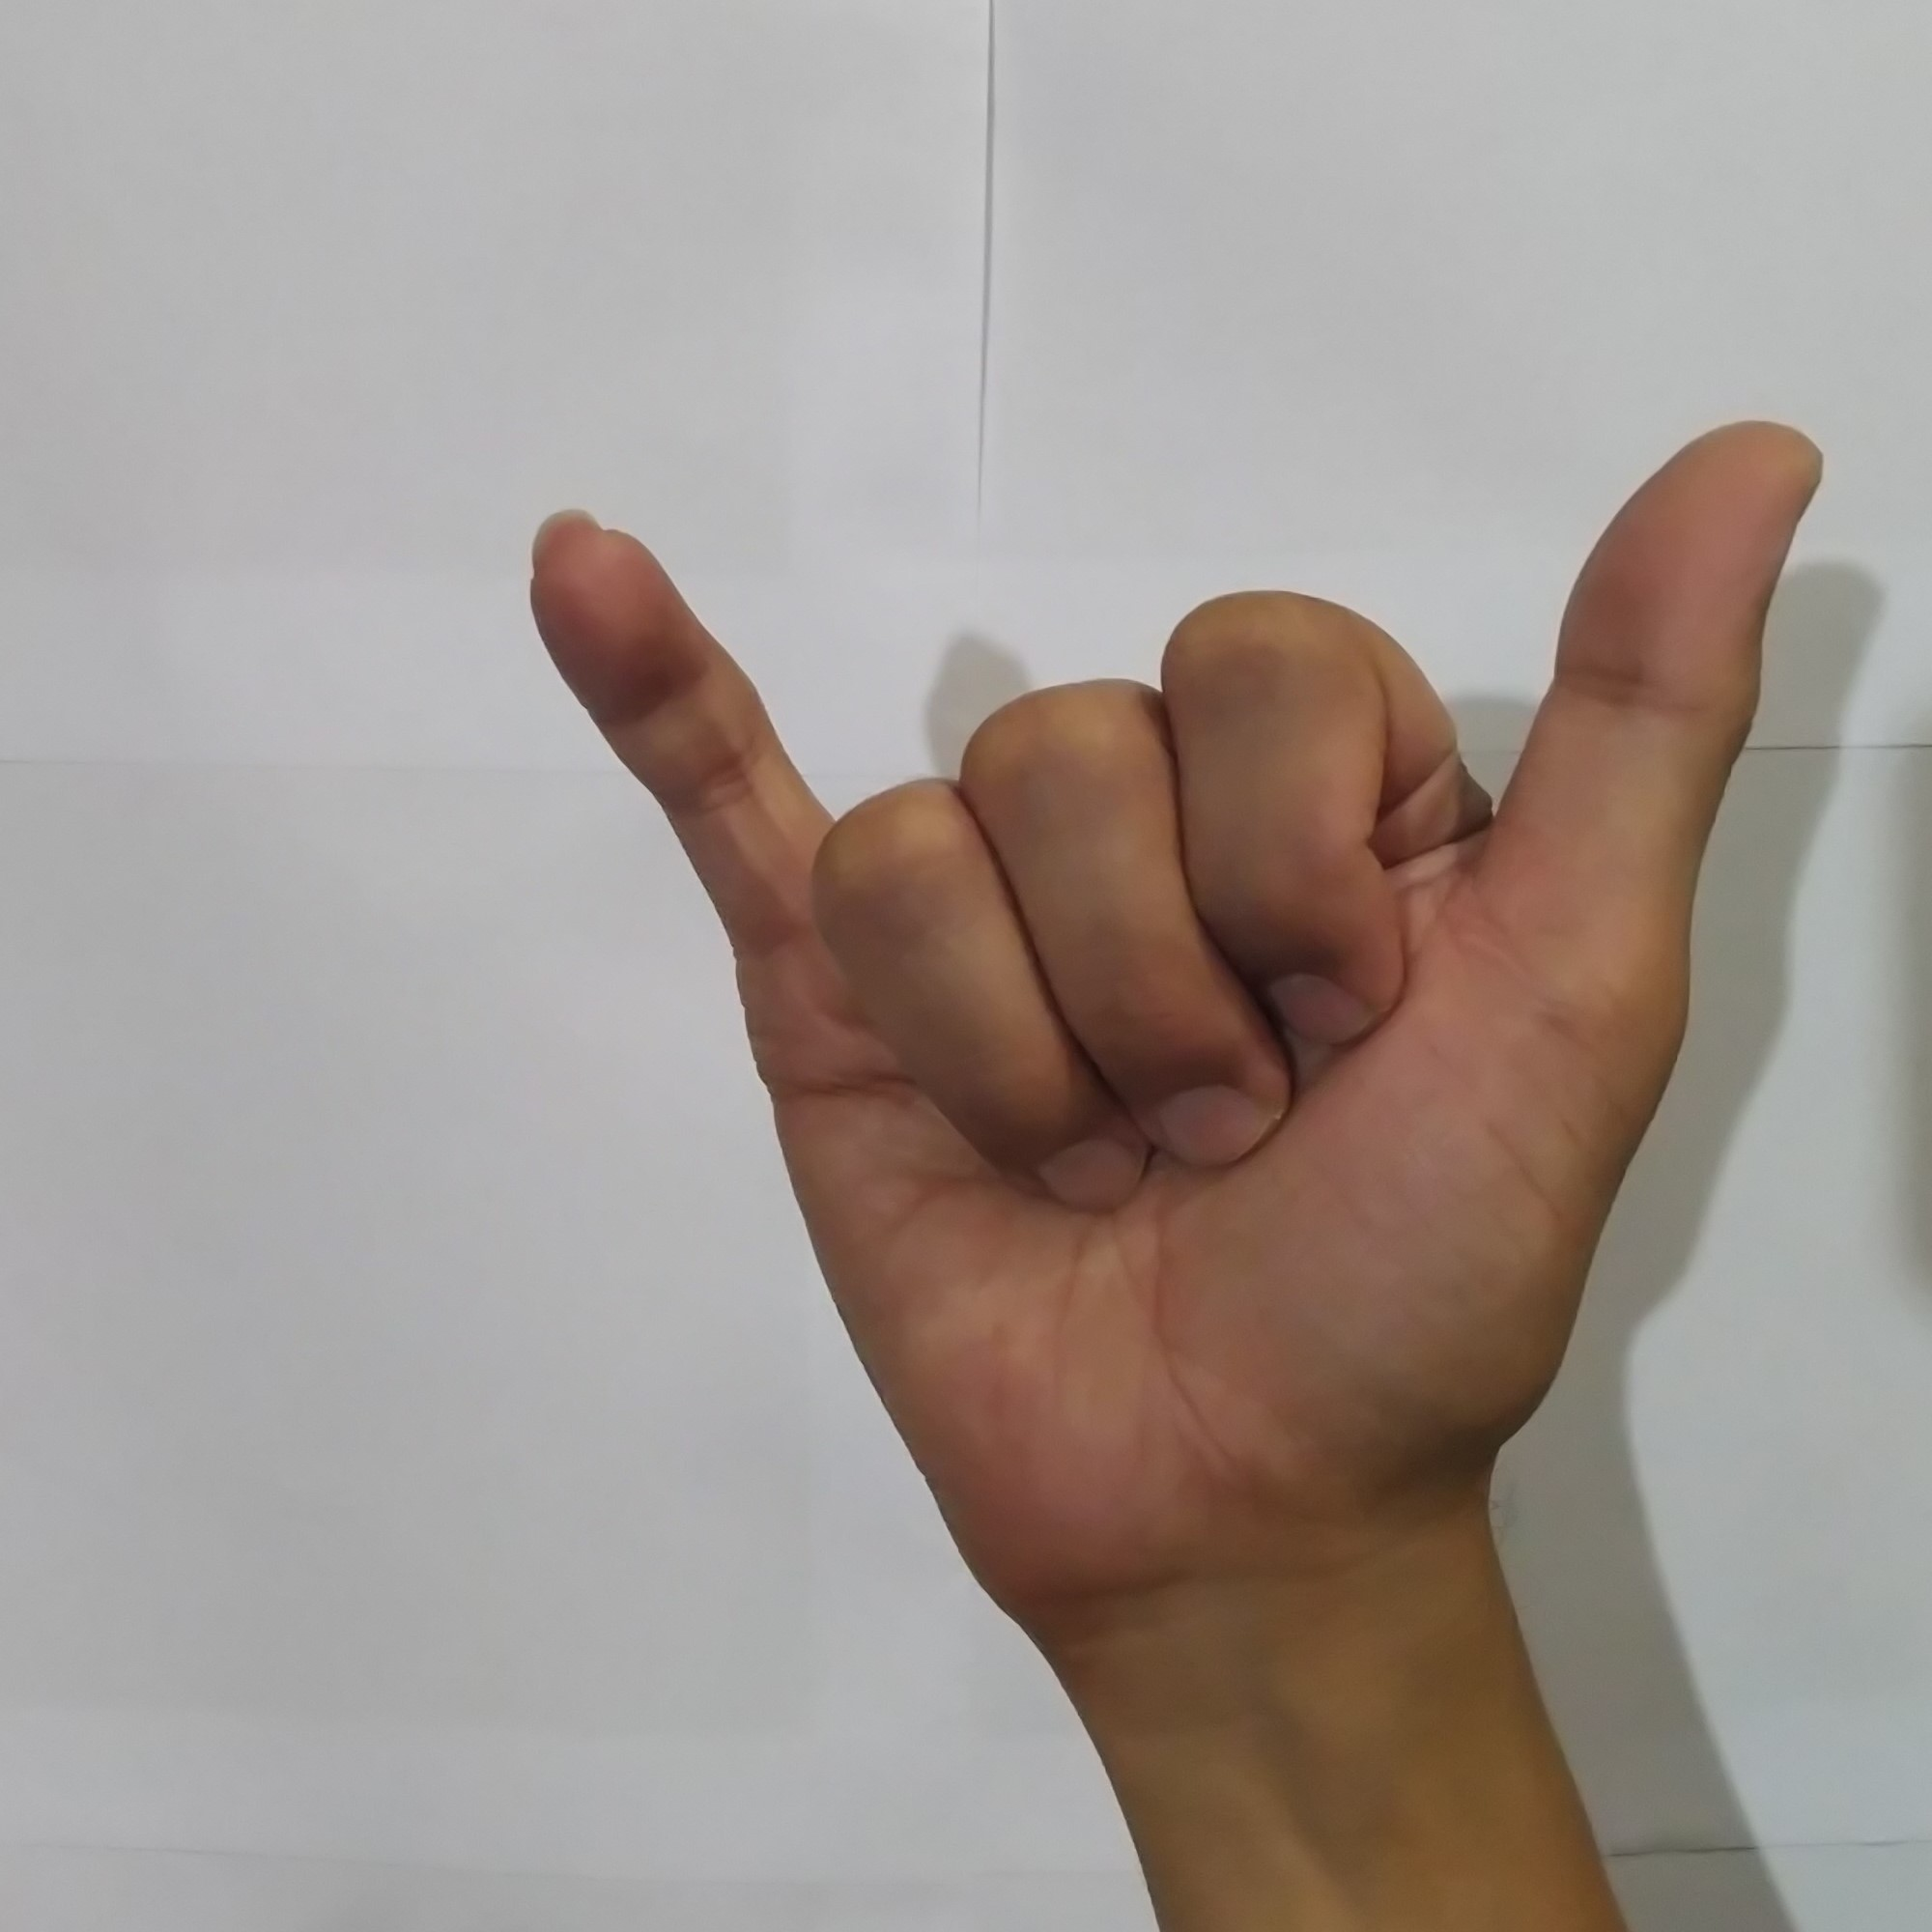Y: (499, 402, 1856, 1610)
